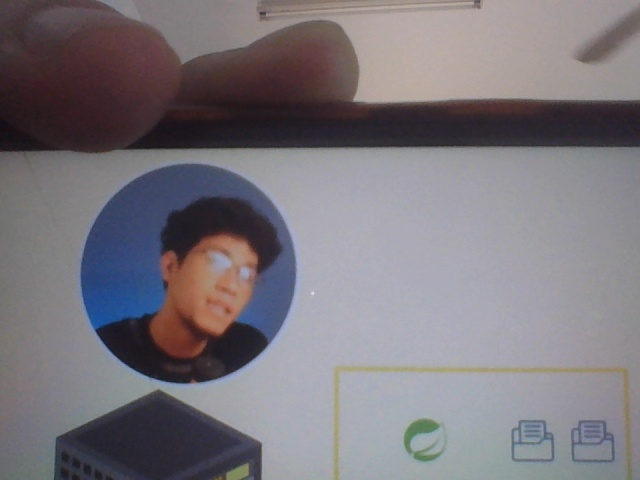fake: (152, 191, 274, 364)
